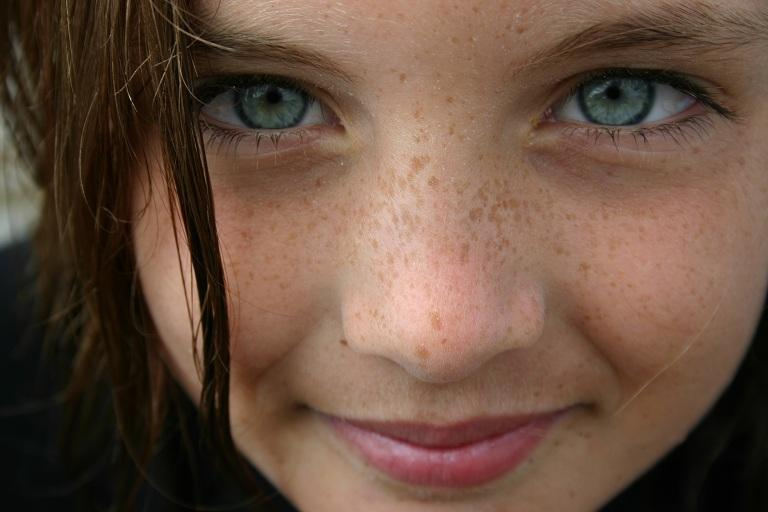Dark-Spots: (210, 80, 722, 362)
